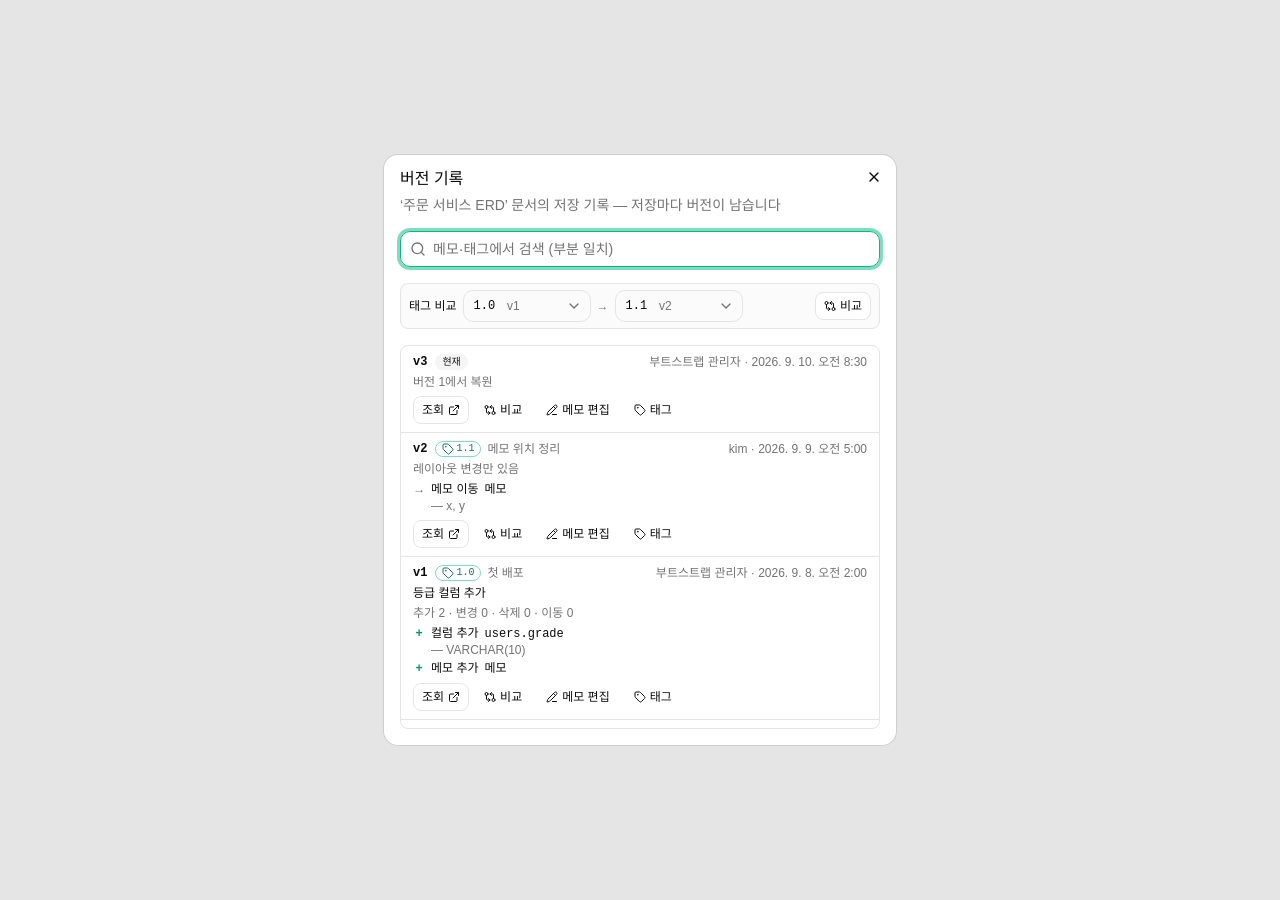
Test case: VersionHistoryDialog — 메모 편집 › 메모를 비우고 저장하면 삭제된다(null) — 요약만 남는다
The image size is (1280, 900).
Click the button "메모 편집" below "첫 배포" at (578, 697), box 537,683 -> 619,711
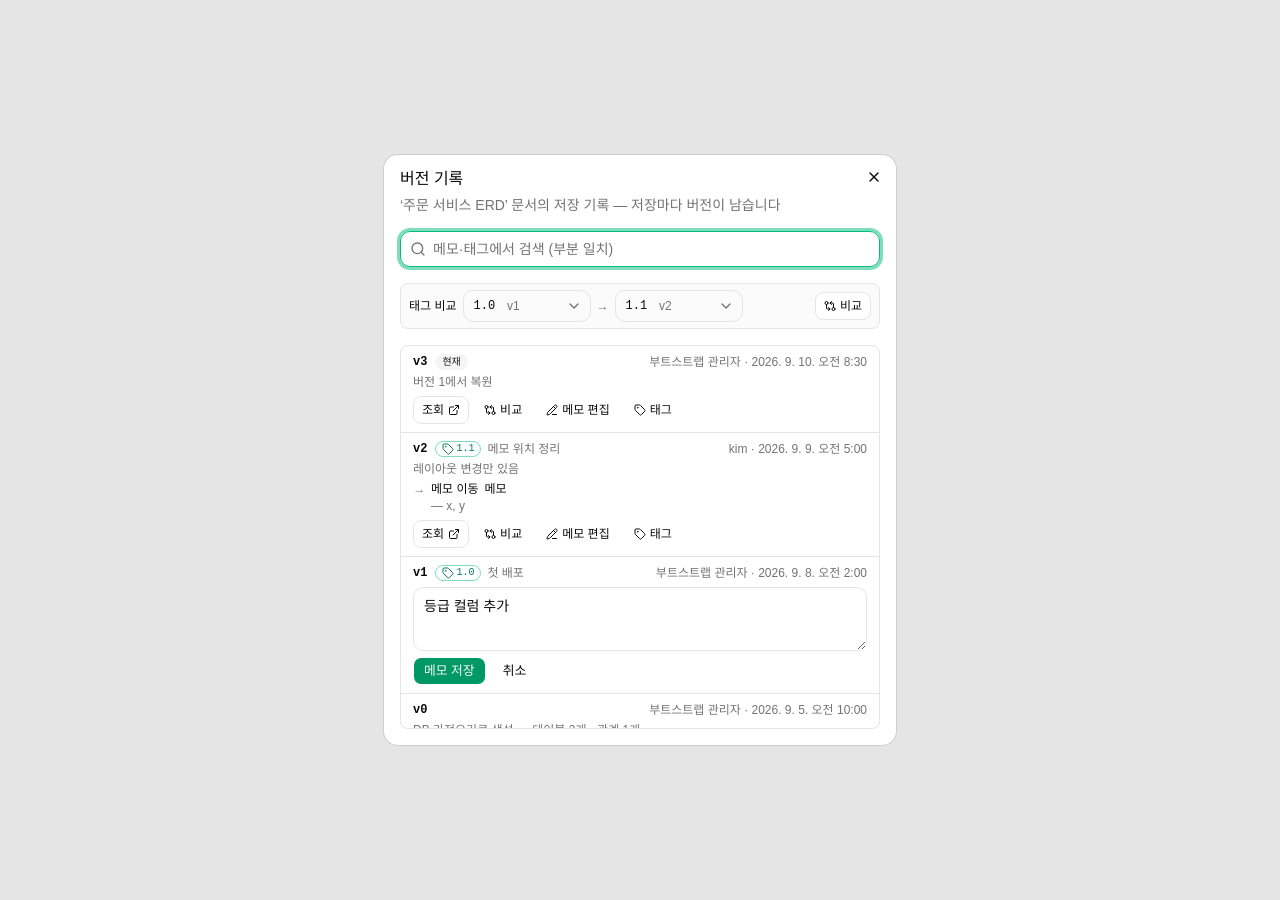
Clear the text box named "메모 편집" at (640, 619), box 413,587 -> 867,651
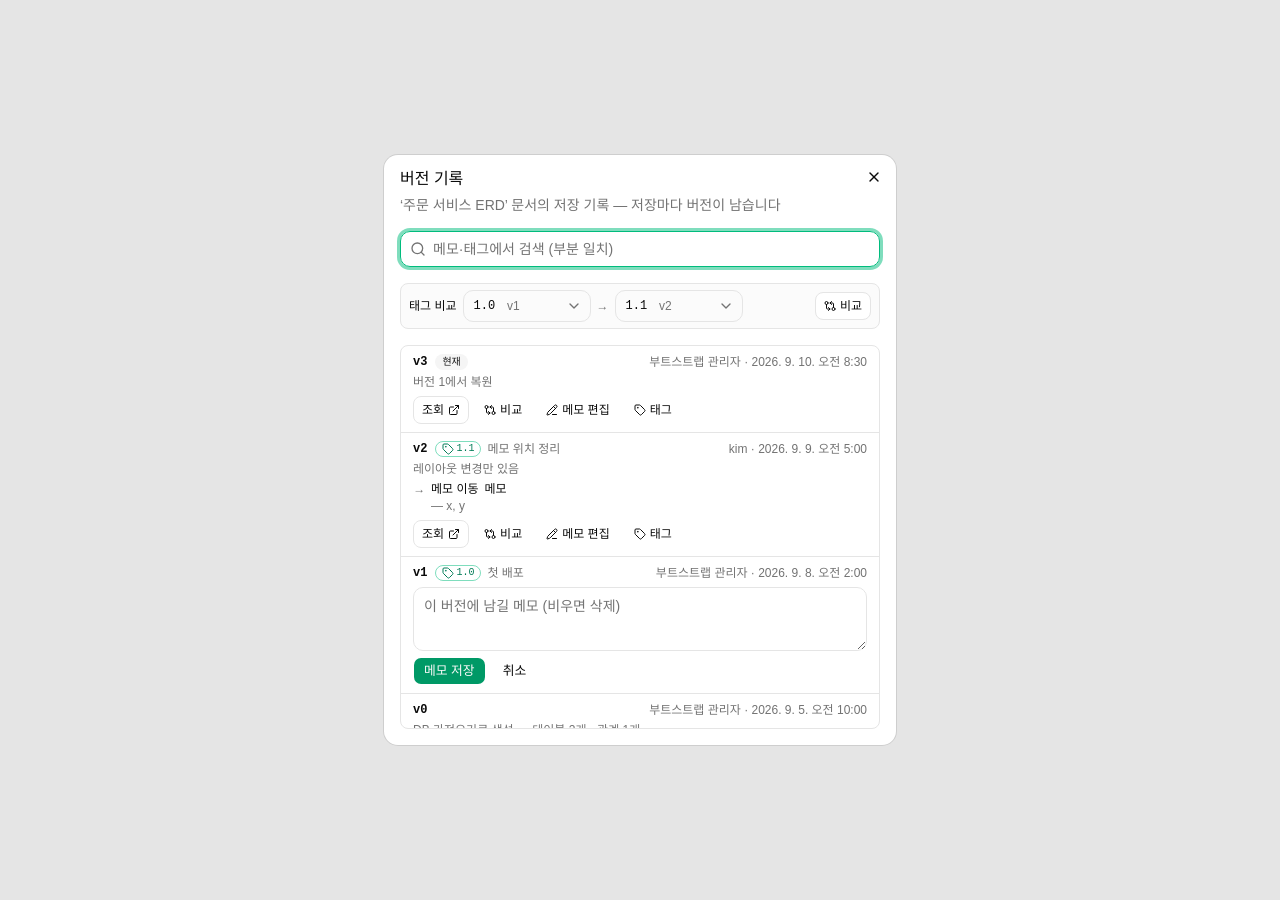
Click the button "메모 저장" at (449, 671), box 413,657 -> 486,685
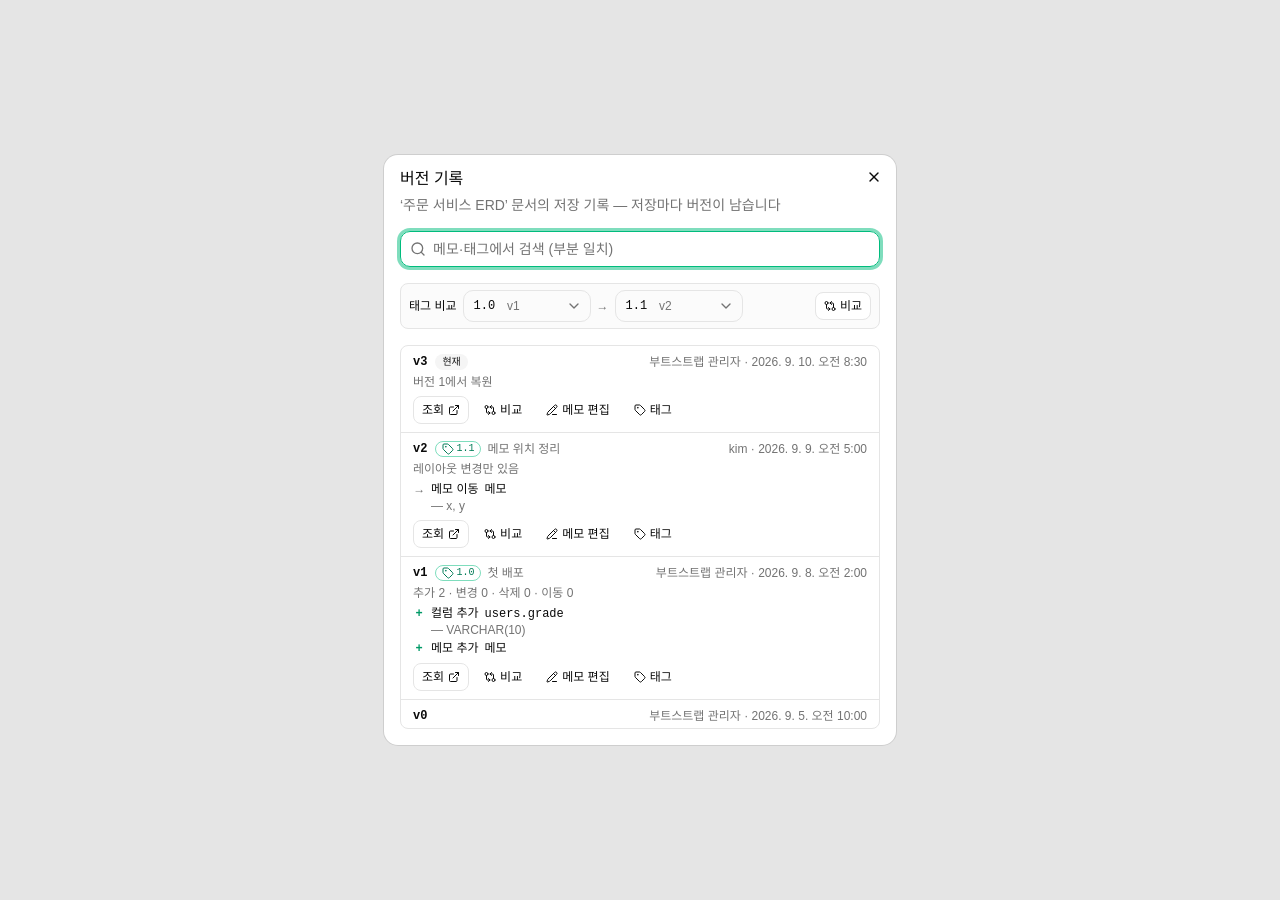
Expected: the text "등급 컬럼 추가" is not shown
Expected: the text "users.grade" is shown, 484,607 -> 564,621
